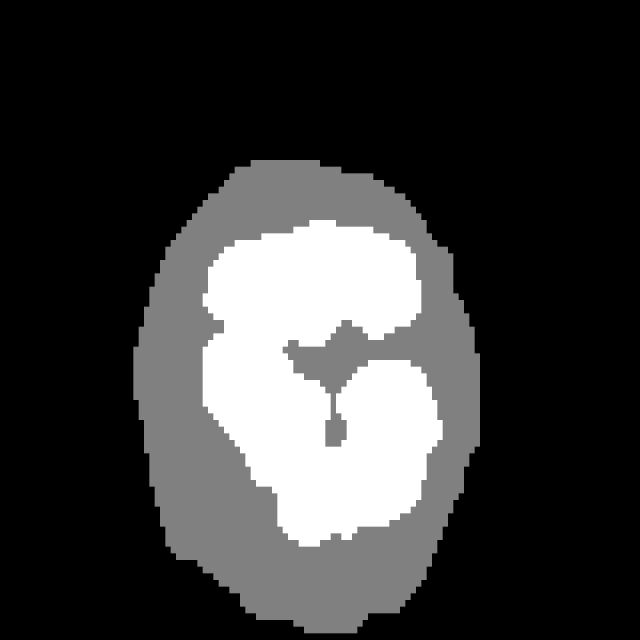WBC: (107, 140, 496, 640)
